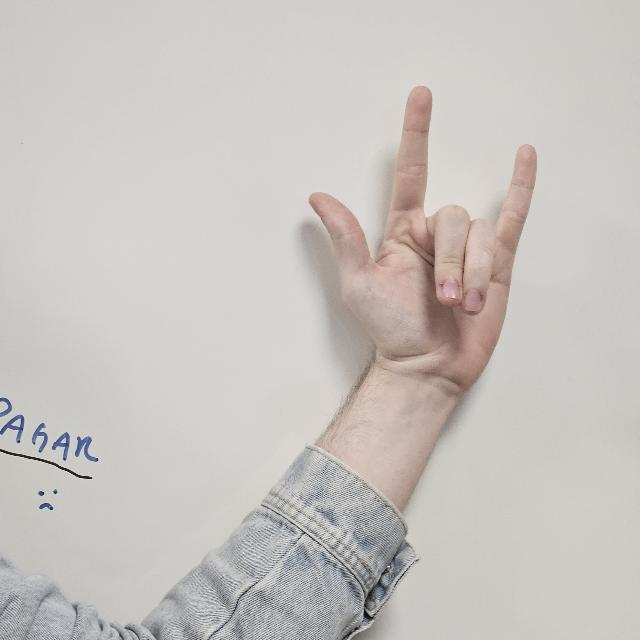Cima: (307, 87, 535, 383)
